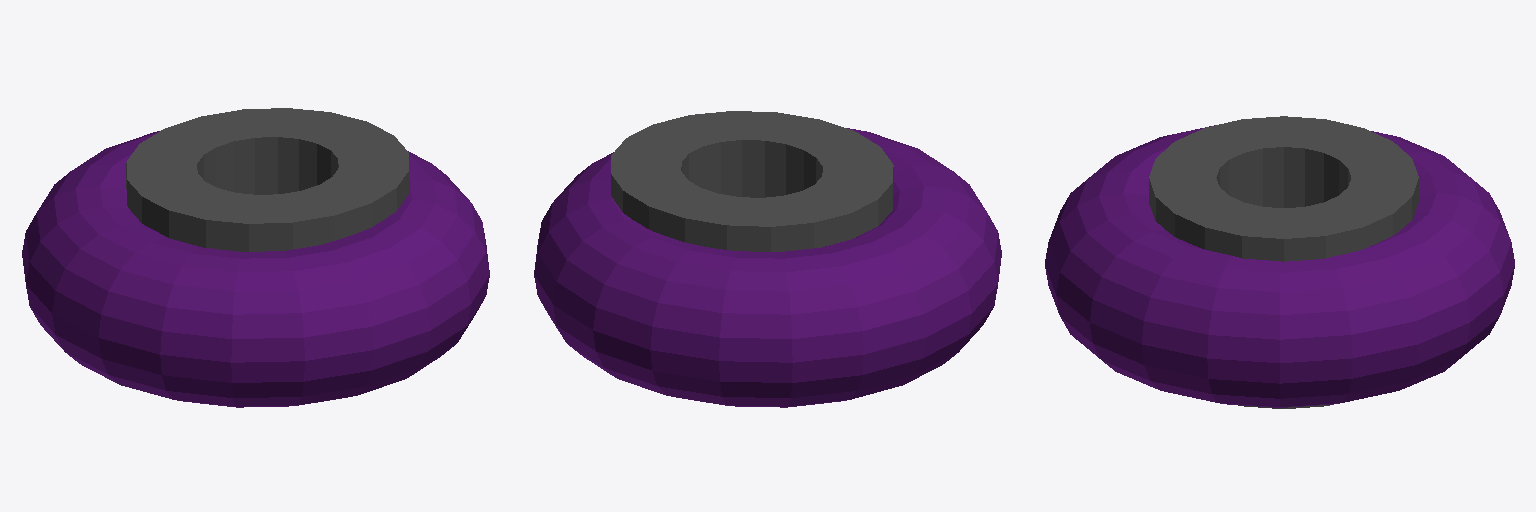
Rendered from glass-model.obj.
3 views of the same model, side by side, from view 1: azimuth 30°, elevation 25°; view 2: azimuth 150°, elevation 25°; view 3: azimuth 270°, elevation 25° (orthographic).
Parts seen in each view (by area): view 1: pTorus1, pPipe1; view 2: pTorus1, pPipe1; view 3: pTorus1, pPipe1.
Boxes of the visible parts, <box> form: pTorus1: <box>22,131,489,407</box>; pPipe1: <box>126,108,408,251</box>; pTorus1: <box>534,128,1001,407</box>; pPipe1: <box>611,111,893,251</box>; pTorus1: <box>1045,125,1514,407</box>; pPipe1: <box>1149,116,1418,408</box>.
Size of the model in its own units: 22.46 by 8.97 by 22.46.